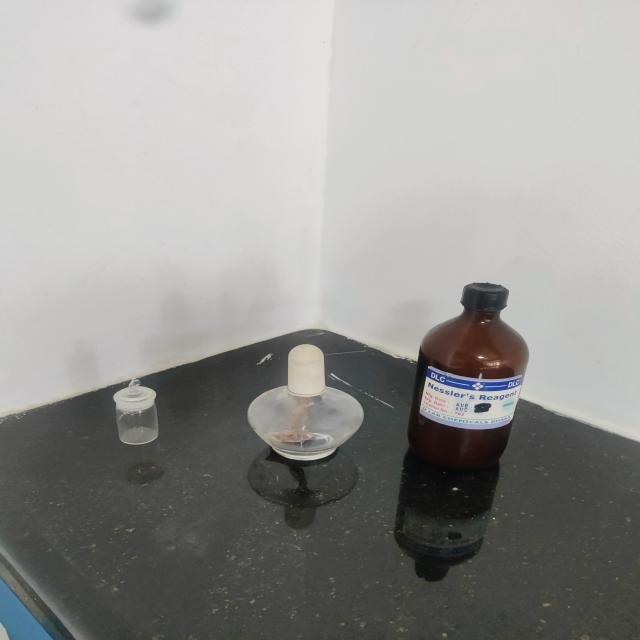Nessler_Reagent_Bottle: (397, 262, 555, 480)
Spirit_Lamp: (231, 325, 369, 482)
Weighing_Bottle: (94, 354, 185, 468)
